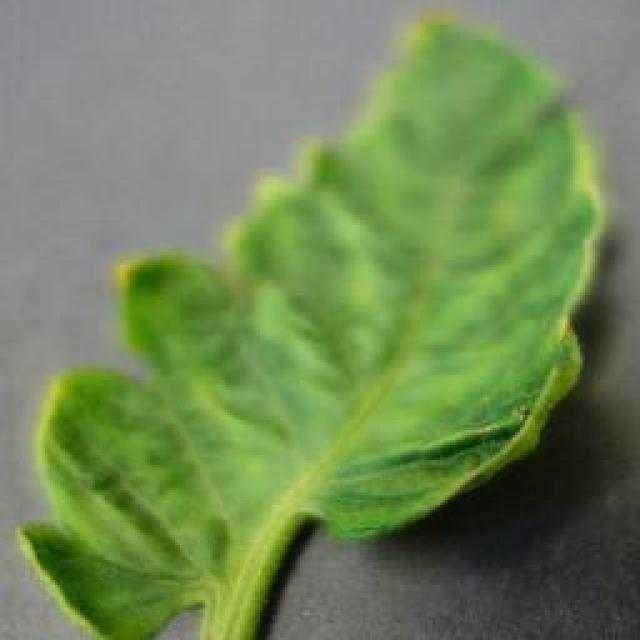Tomato yellow virus leaf: (22, 17, 607, 640)
